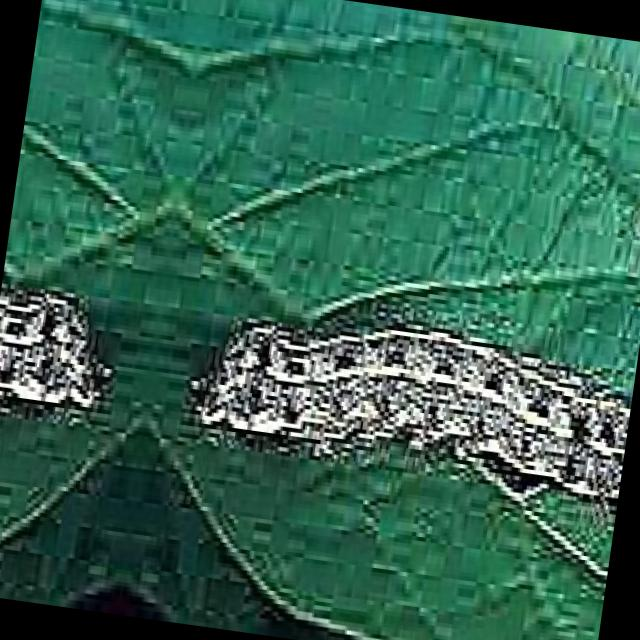Armyworm: (181, 252, 640, 568), (1, 211, 134, 464)
